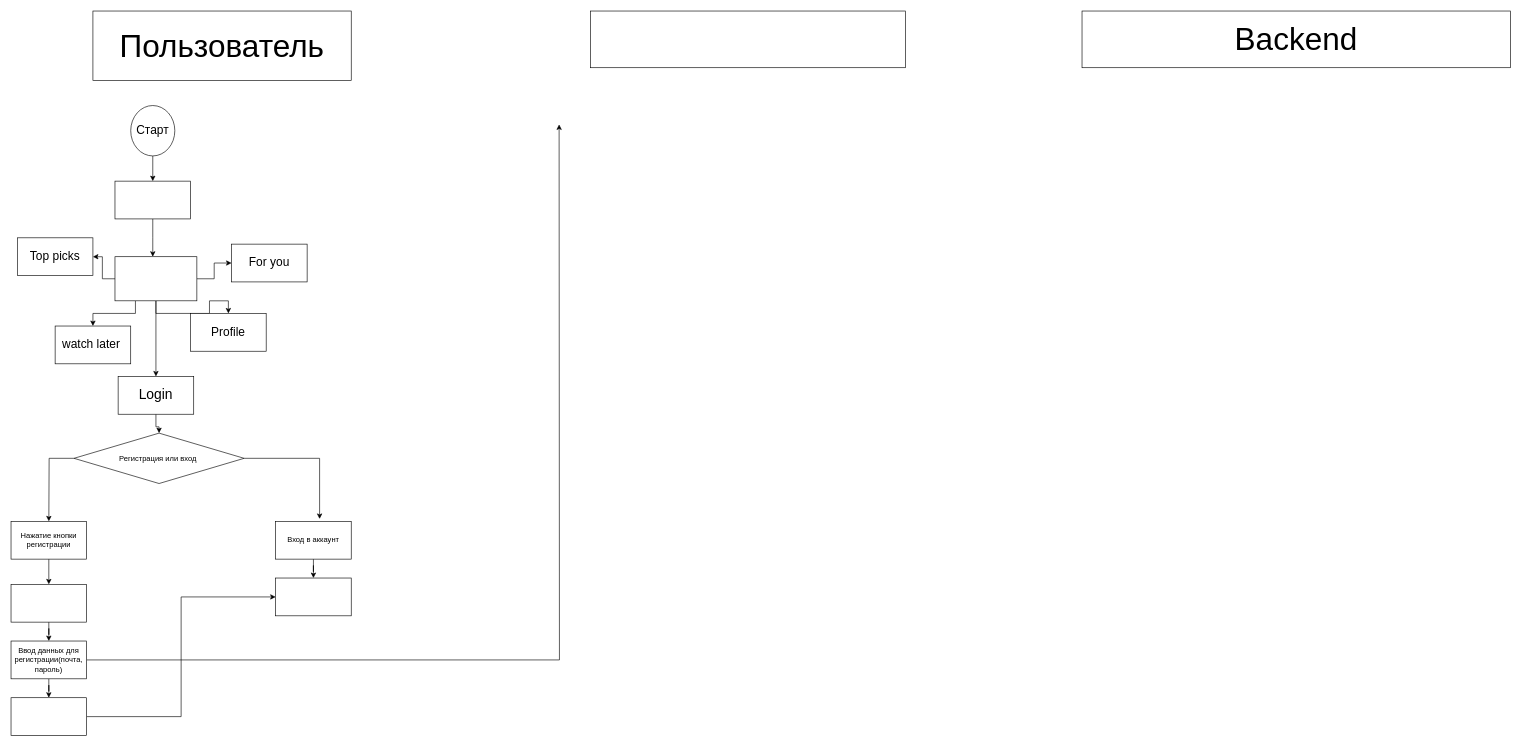
Some shapes in this 1521 by 747 pixel diagram are drawn without their labels. Here are the shapes that lost their labels. From the top down, the centre of each, then its label:
At point (748, 39): "Frontend".
At point (152, 199): "Открытие главной страницы".
At point (155, 278): "Нажатие кнопки".
At point (48, 603): "Открытие страницы регистрации".
At point (313, 596): "Открывается Profile".
At point (48, 716): "Нажатие кнопки зарегестрироваться".
